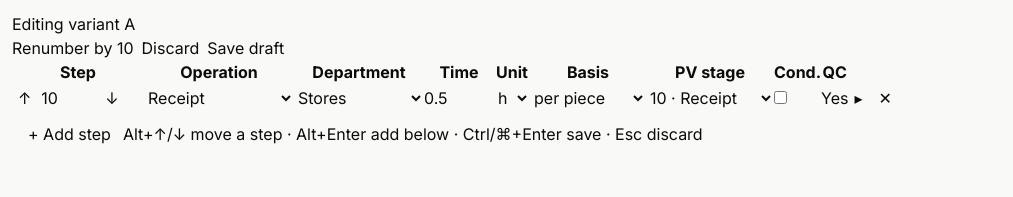
it: StepEditor › a stale save keeps the edits, explains, and offers a reload
Replace the text in the field named "Standard time" with "0.9" at (459, 98), box [424, 86, 494, 110]
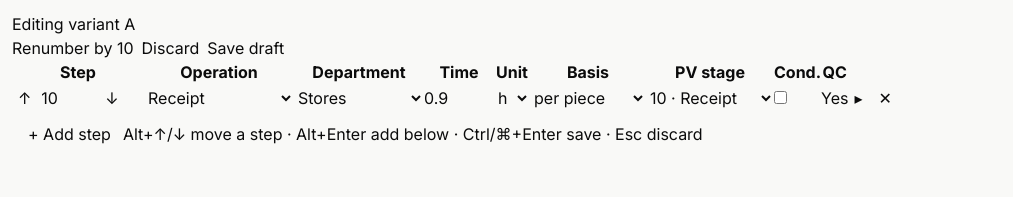
Click the button "Save draft" at (246, 48), box [207, 36, 284, 60]
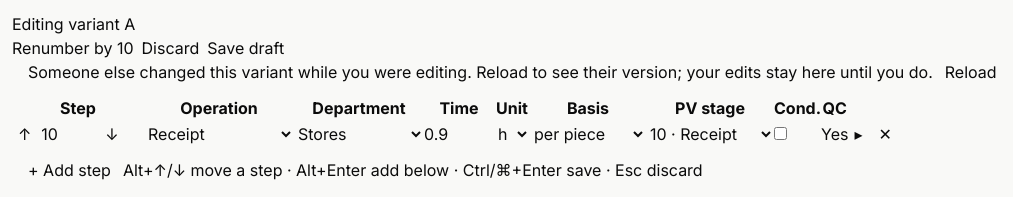
Now the text "Someone else changed this variant while you were editing" is shown, box [28, 62, 933, 82]
Now the button "Reload" is shown, box [945, 60, 997, 84]
